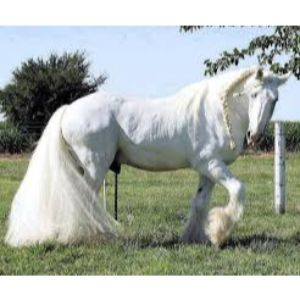horse: (11, 71, 289, 247)
